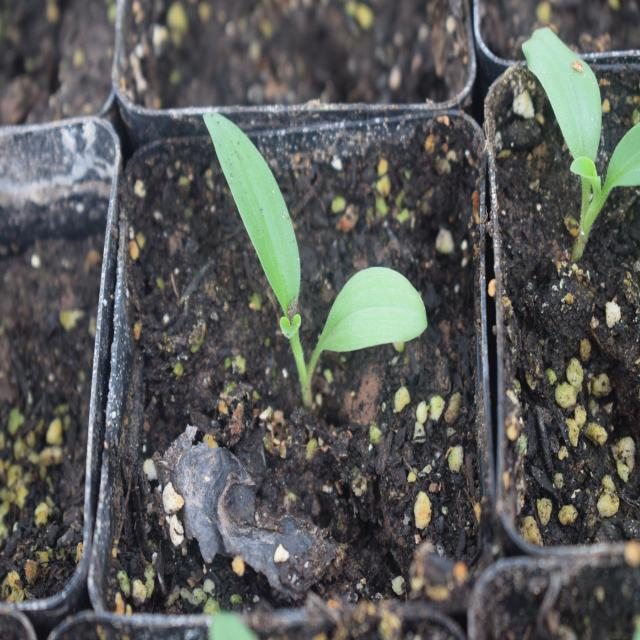Common Dayflower: (202, 91, 425, 402)
